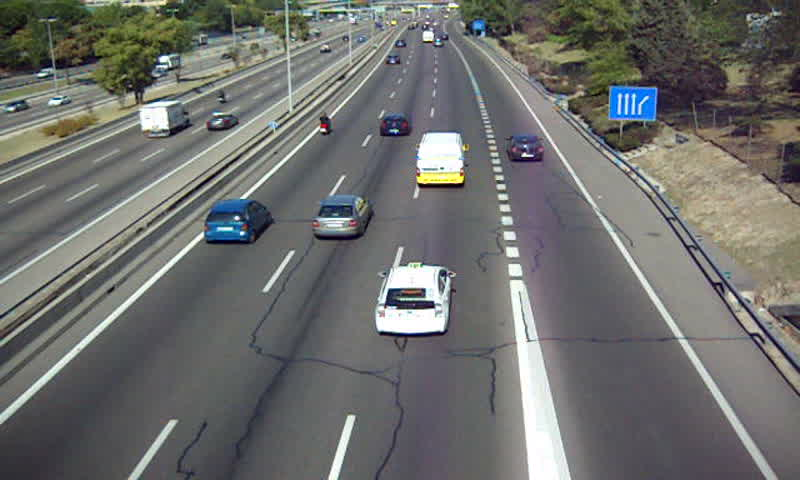car: (375, 265, 450, 333), (203, 200, 269, 243), (313, 194, 369, 239), (505, 133, 545, 161), (378, 115, 412, 138), (383, 55, 402, 67)
motorcycle: (318, 111, 331, 138)
van: (416, 133, 465, 187)
